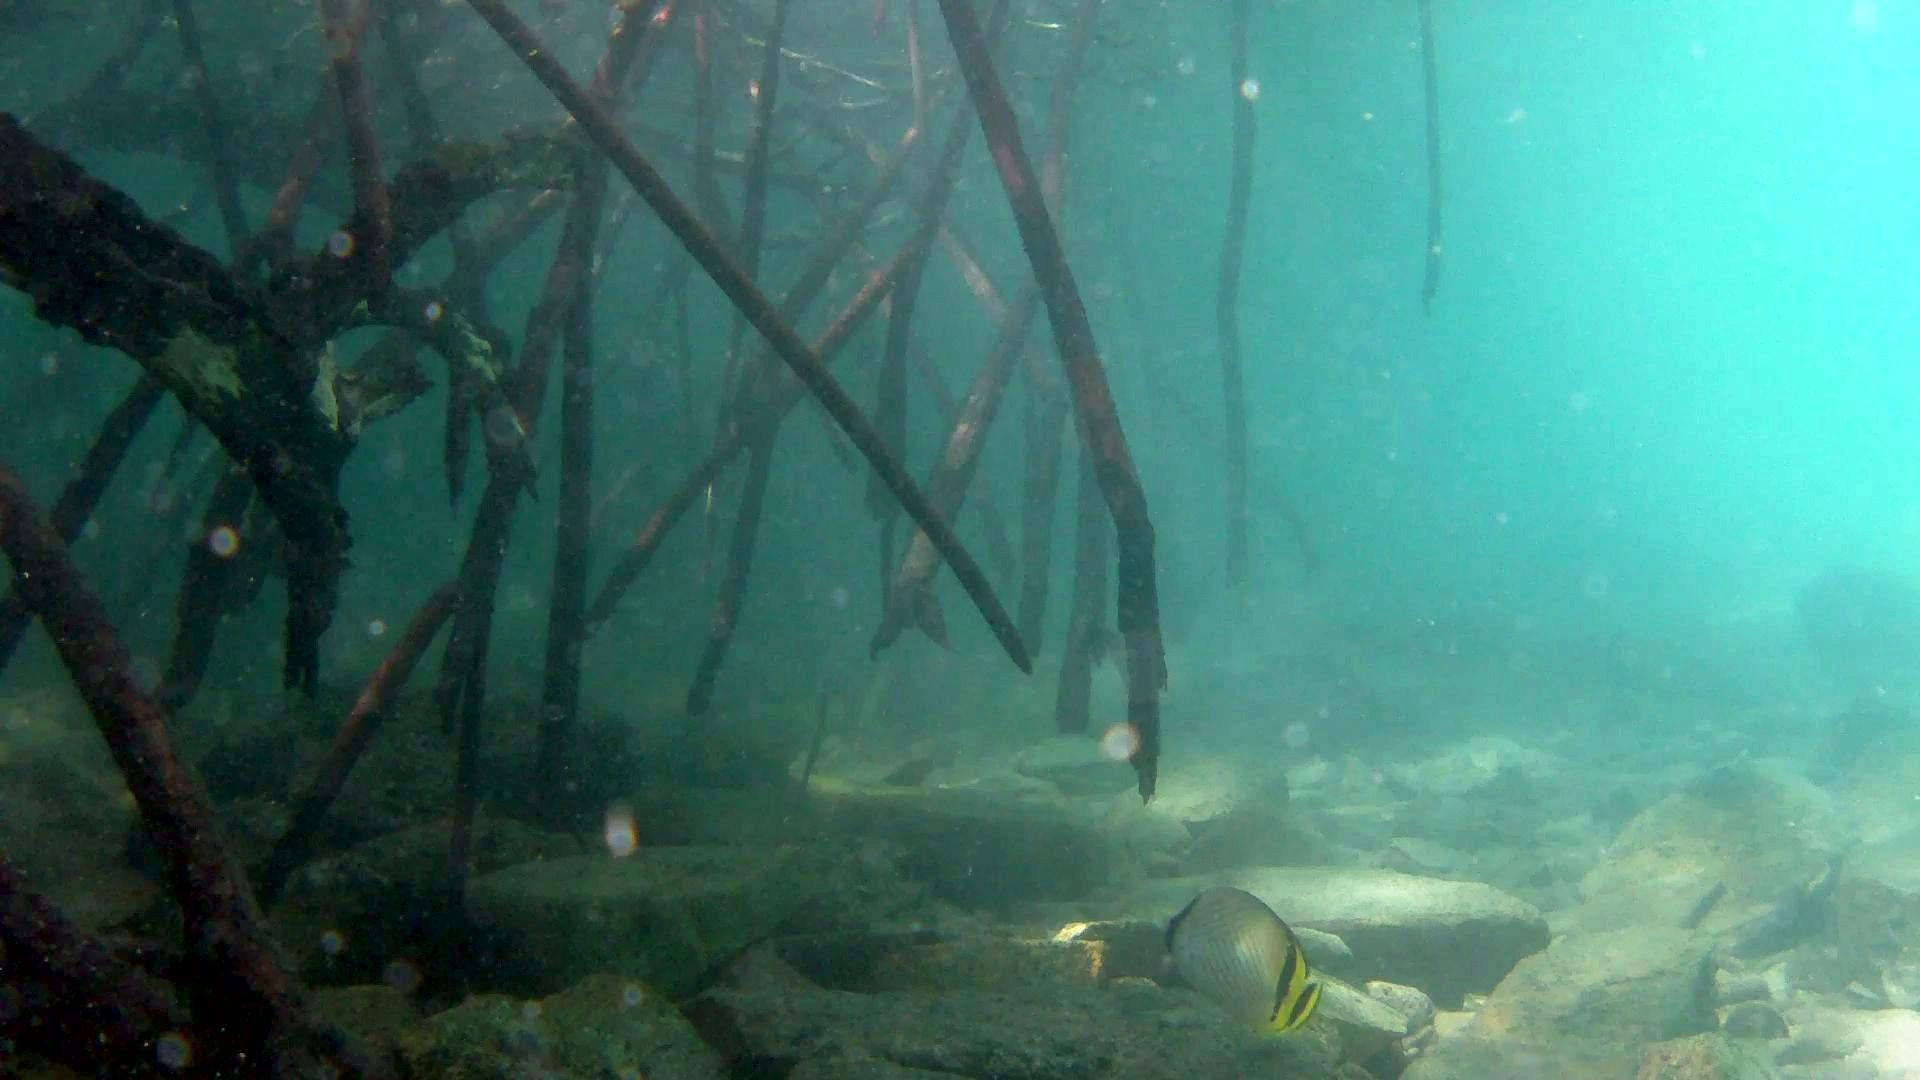chaetodon vagabundus: (1153, 885, 1325, 1040)
